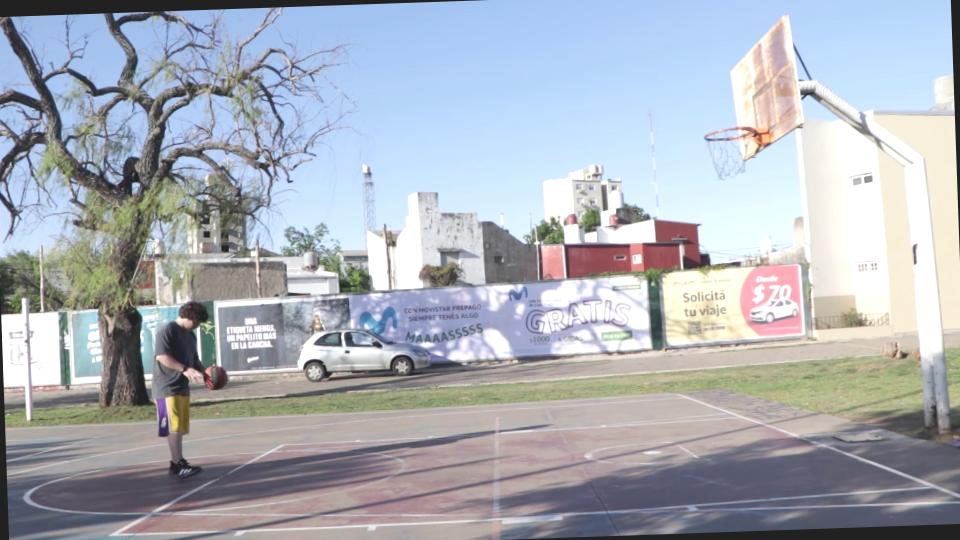hoop: (703, 126, 759, 142)
